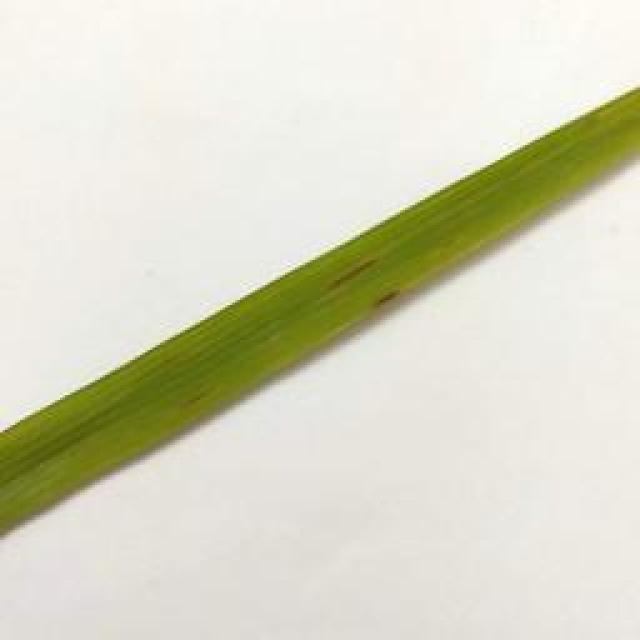Brown_Spot: (307, 249, 391, 286), (365, 268, 415, 322)
